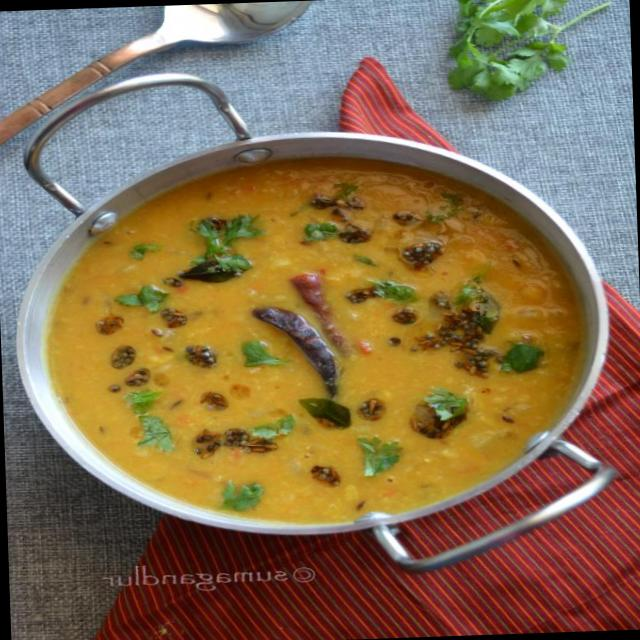dal: (36, 145, 590, 530)
